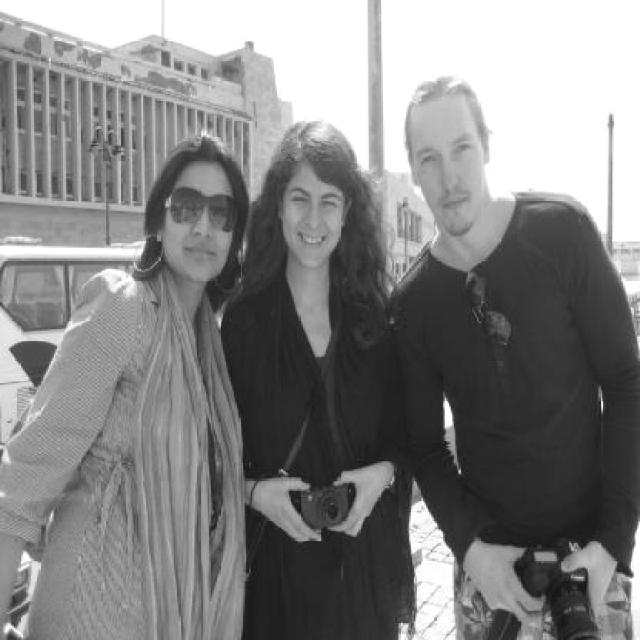face_nomask: (416, 139, 478, 215), (281, 184, 342, 259)
glasses: (165, 184, 237, 231)
hand_noglove: (468, 536, 546, 622), (556, 535, 629, 614), (334, 456, 398, 544), (254, 475, 323, 553)
head_nohelmet: (399, 84, 490, 138), (278, 125, 356, 181), (167, 133, 238, 182)
person: (381, 78, 640, 639), (0, 123, 249, 640), (224, 124, 417, 640)
